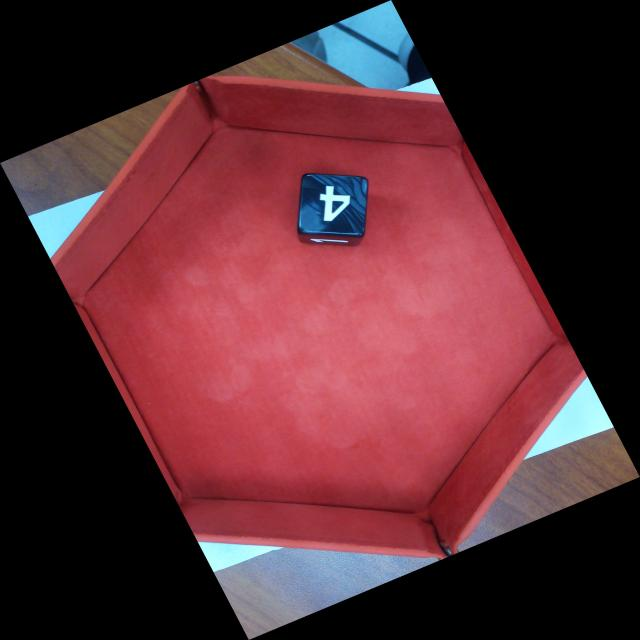dice: (296, 172, 371, 237)
